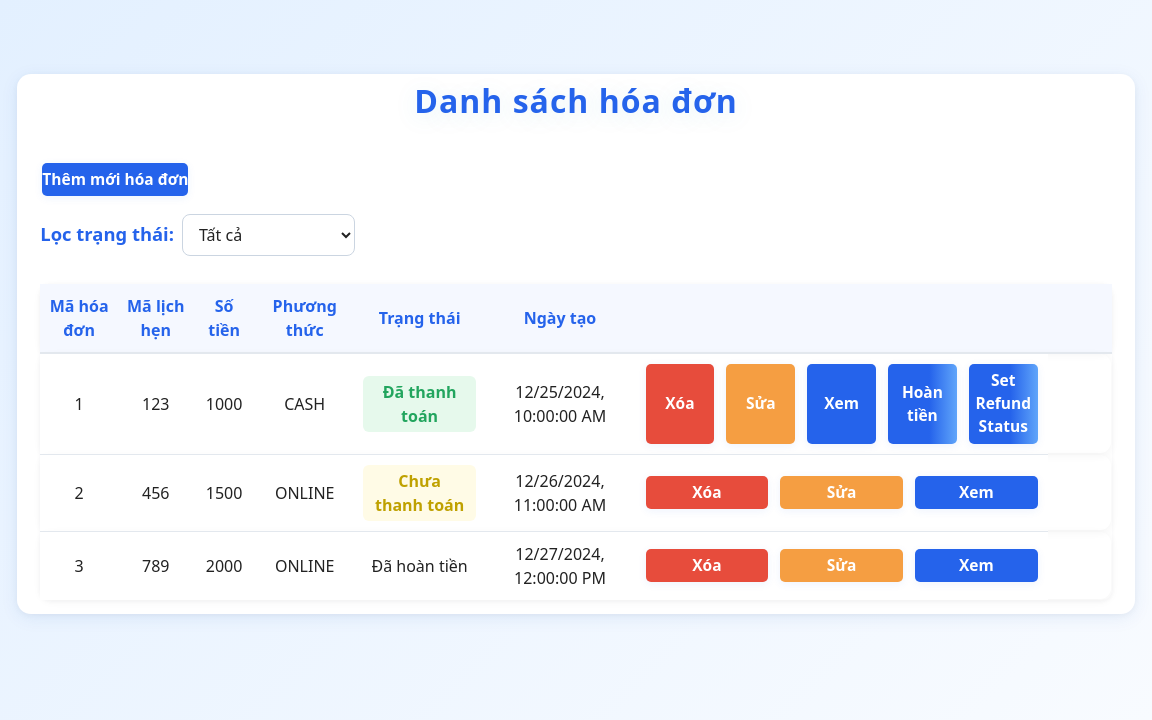
Test: InvoiceList › opens create modal when "Thêm mới hóa đơn" is clicked
Expected: the text "1" is shown, [40, 353, 118, 454]
Click the button "Thêm mới hóa đơn": (115, 179) [42, 163, 188, 196]
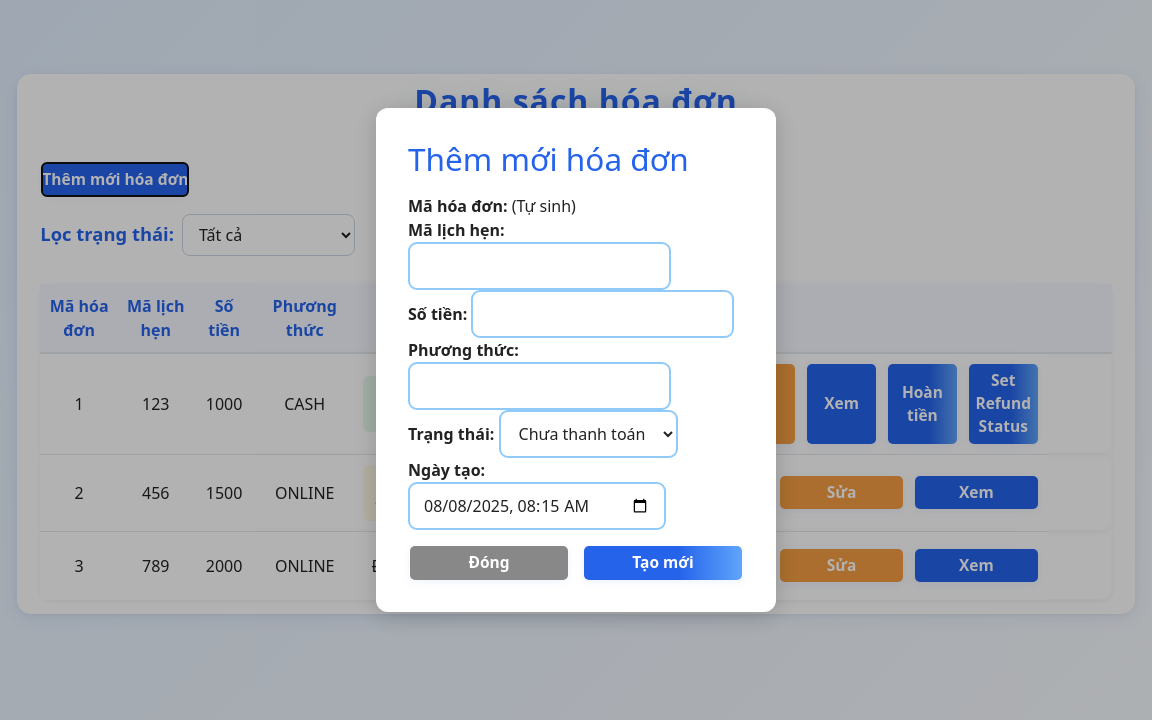
Result: the heading "Thêm mới hóa đơn" is shown at [408, 137, 689, 180]
Result: the button "Tạo mới" is shown at [584, 546, 742, 580]
